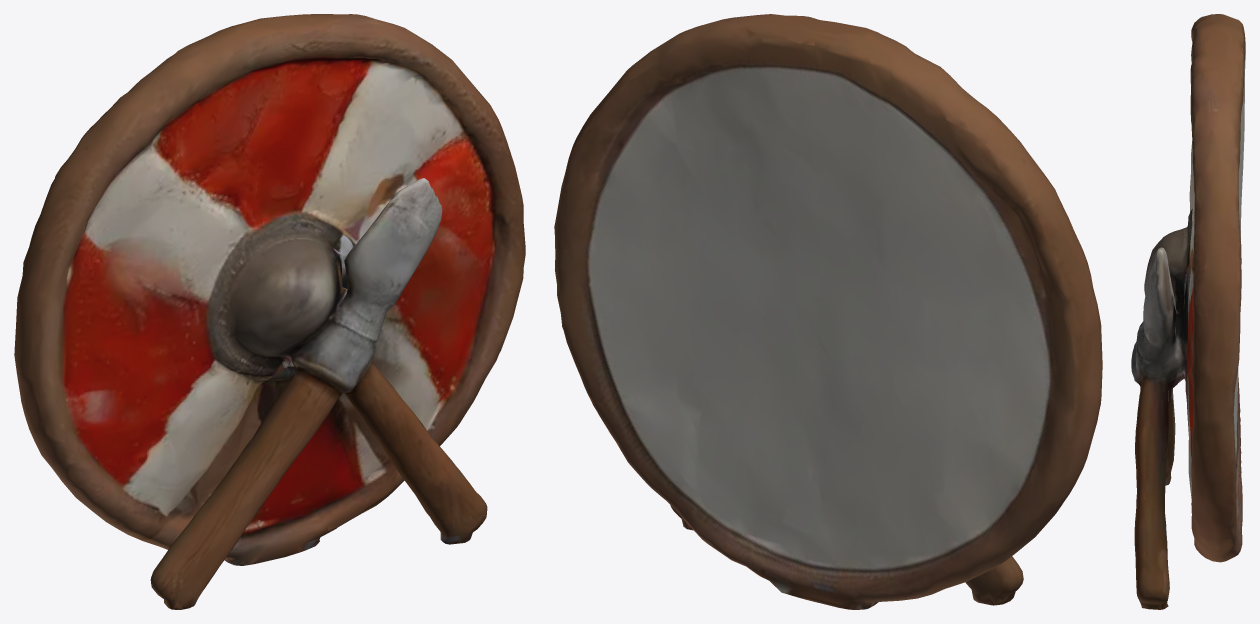
The model's file is prop_axe_and_shield.glb.
3 renders of one model, left to right at view 1: azimuth 30°, elevation 25°; view 2: azimuth 150°, elevation 25°; view 3: azimuth 270°, elevation 25°, orthographic. The views are drawn at different scales.
Parts seen in each view (by area): view 1: geometry_0; view 2: geometry_0; view 3: geometry_0.
Boxes of the visible parts, x1=… form: geometry_0: x1=14, y1=14, x2=525, y2=609; geometry_0: x1=554, y1=14, x2=1102, y2=609; geometry_0: x1=1131, y1=14, x2=1245, y2=609.
Size of the model in its own units: 1.2 by 1.21 by 0.2529.
1 material, 1 textured.
